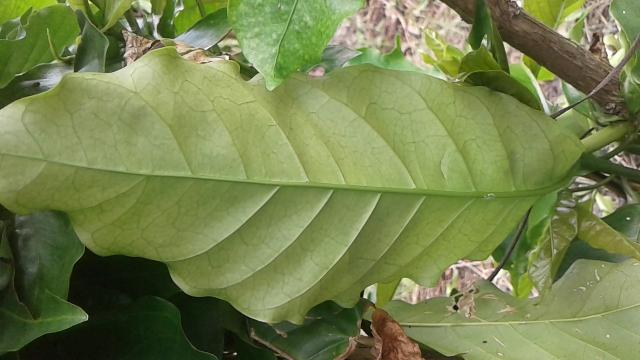healthy: (0, 45, 585, 324)
